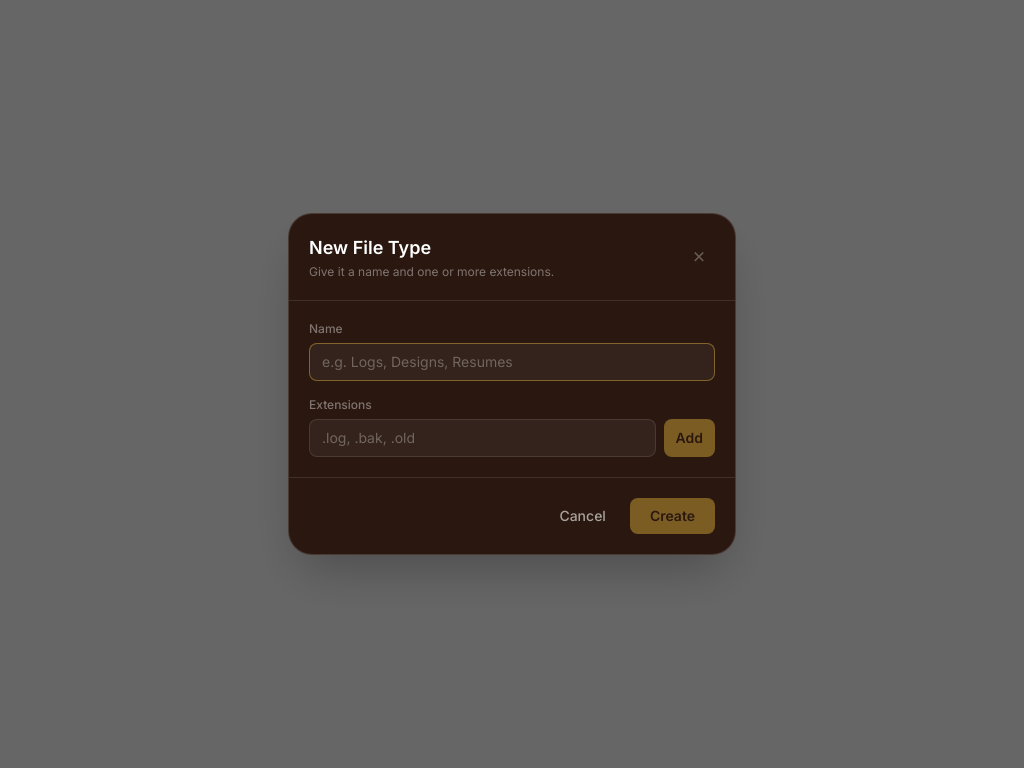
it: CustomFileTypeModal › Create button is disabled until name AND at least one extension are present
The image size is (1024, 768).
Expected: the button "Create" is disabled, [630,498,715,534]
Type "Logs" into the field labelled "Name" at (512, 362), box [309,343,715,381]
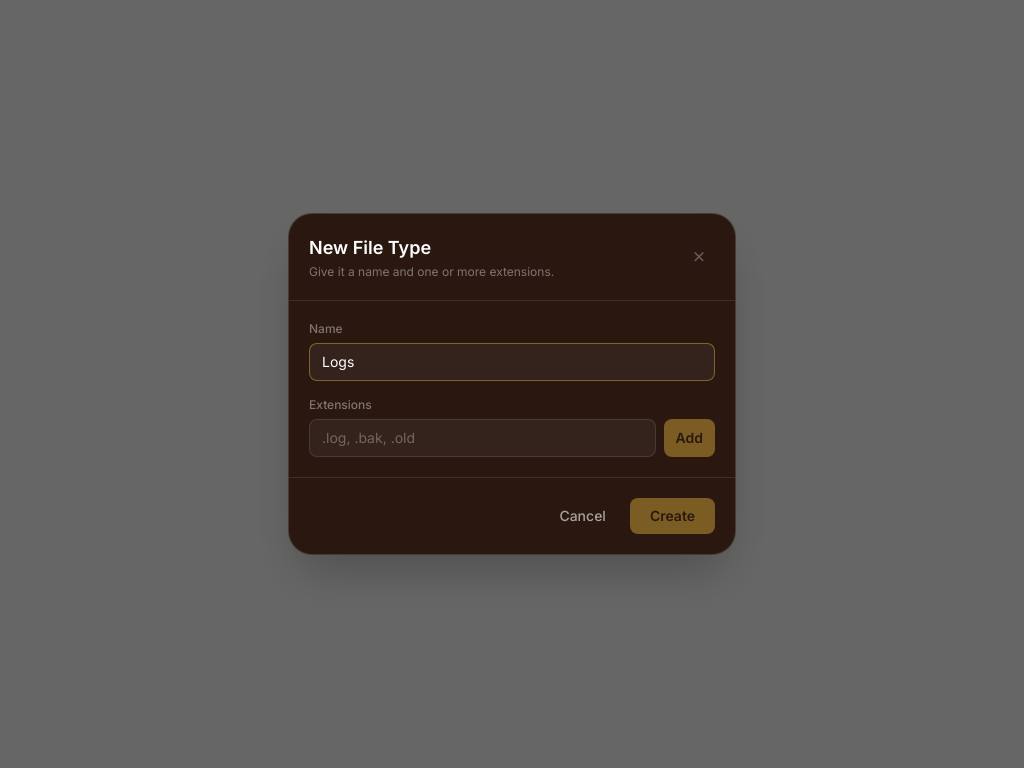
Expected: the button "Create" is disabled, [630,498,715,534]
Type ".log" into the field labelled "Extensions" at (482, 438), box [309,419,656,457]
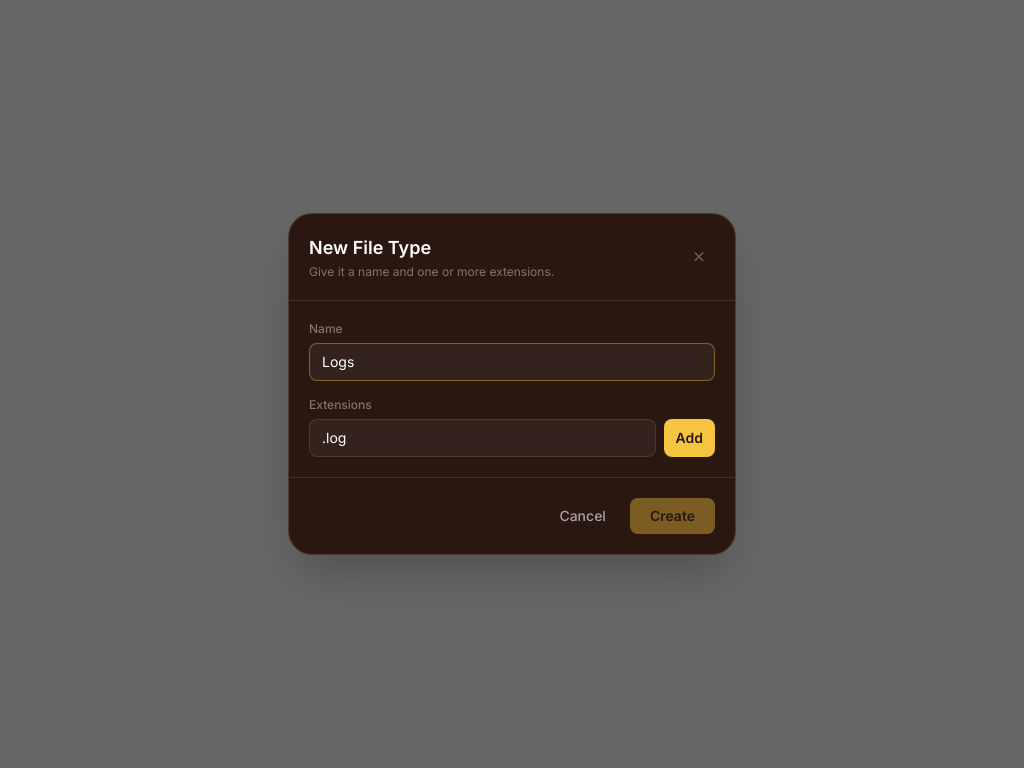
Click the button "Add" at (689, 438), box [664,419,715,457]
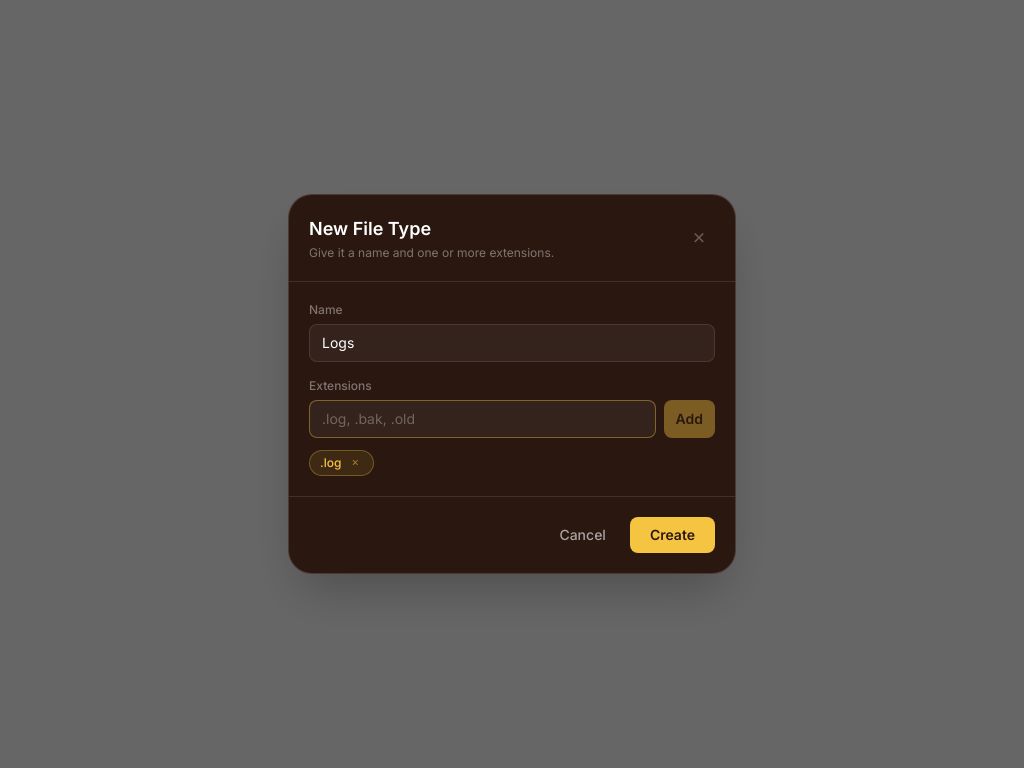
Result: the button "Create" is enabled at [630,517,715,553]
